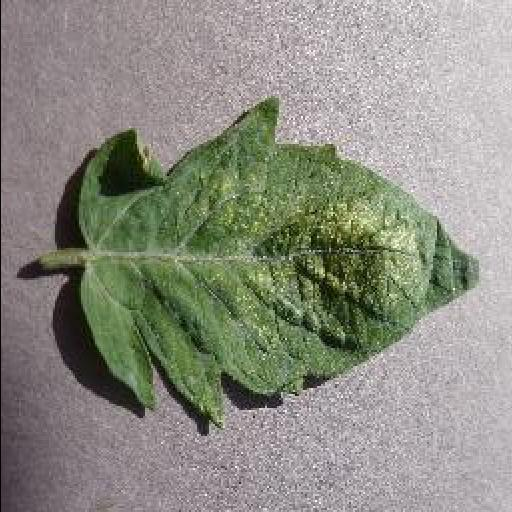disease_tomato: (78, 100, 484, 428)
